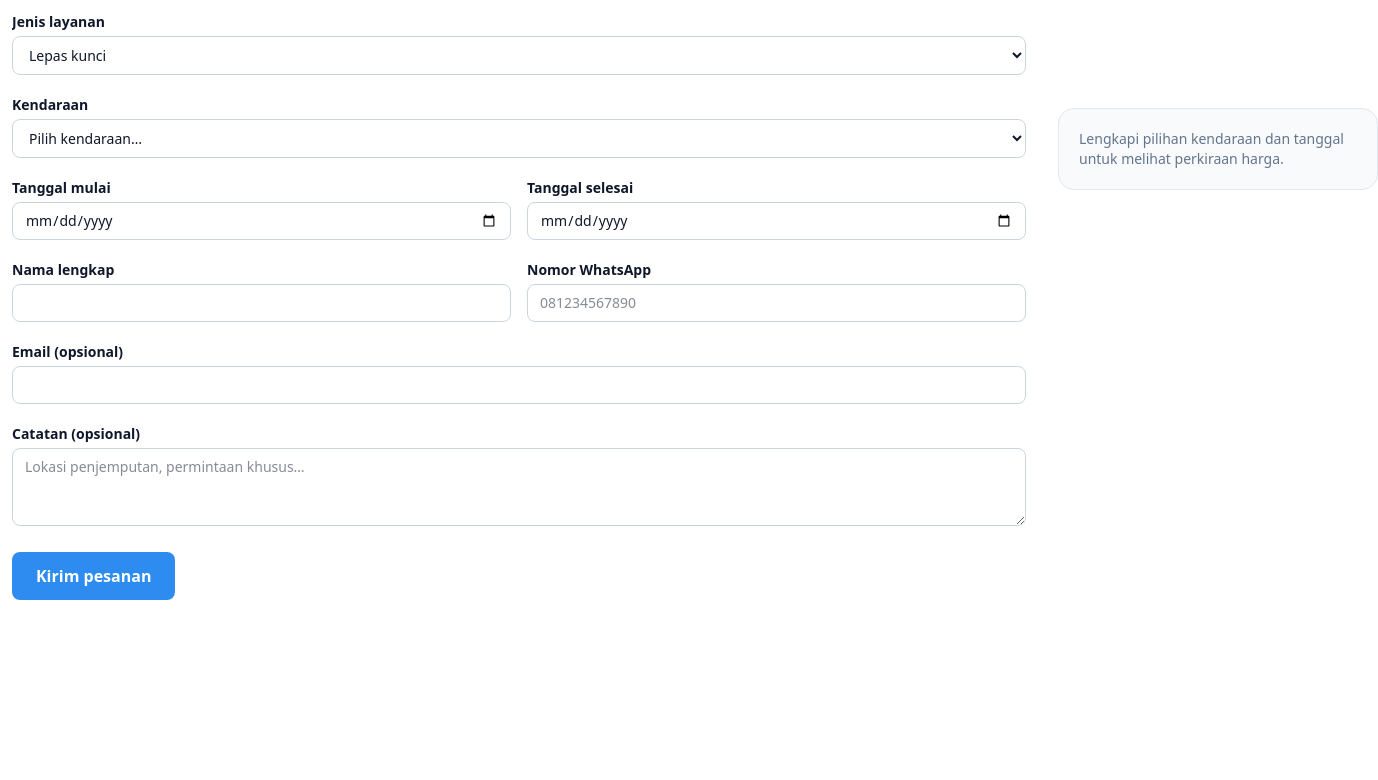
Scenario: BookingForm › menyembunyikan kategori yang tarifnya tidak diisi admin
The width and height of the screenshot is (1378, 780).
Select "Hiace Commuter" in the dropdown labelled "Kendaraan" at point(519, 138), box [12,119,1026,158]
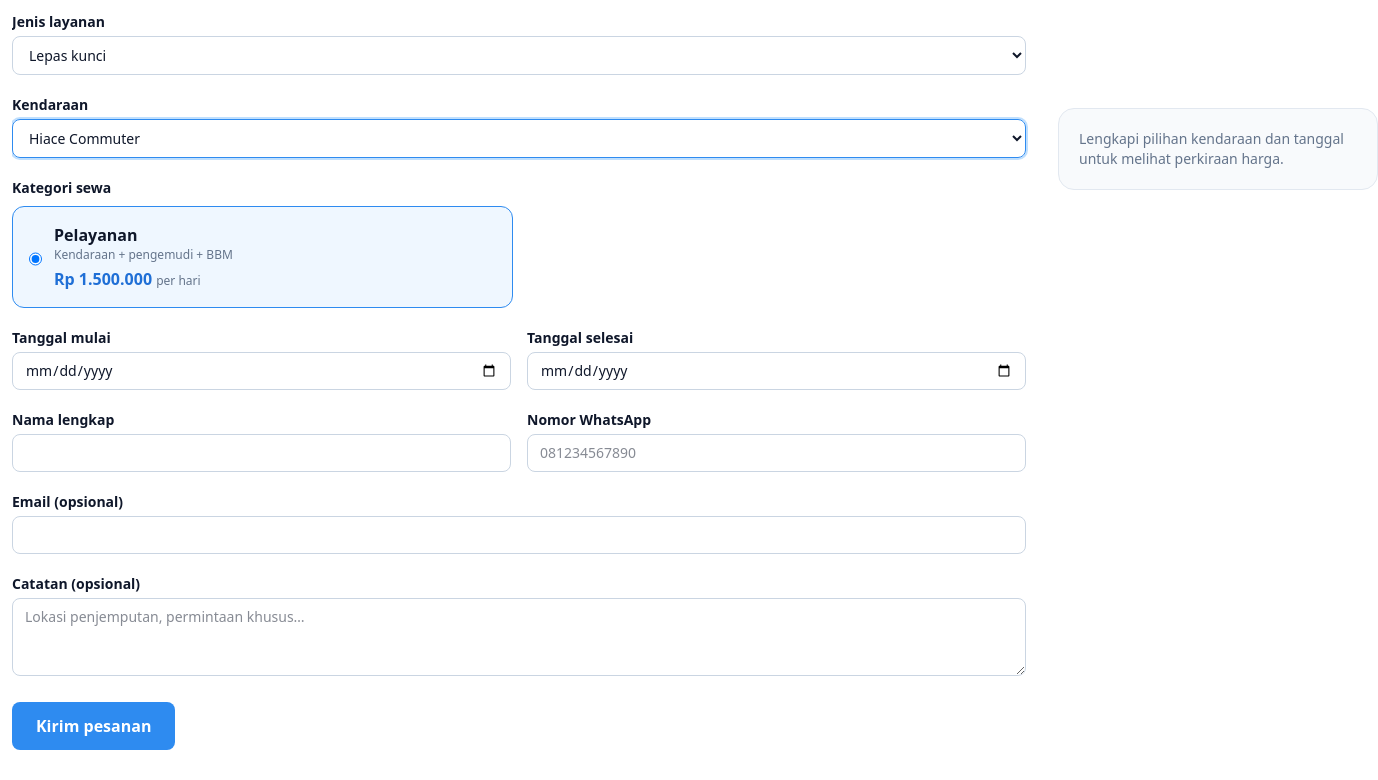
Check: the radio button labelled "Pelayanan Kendaraan + pengemudi + BBM Rp 1.500.000 per hari" is shown, box [29,227,42,291]
